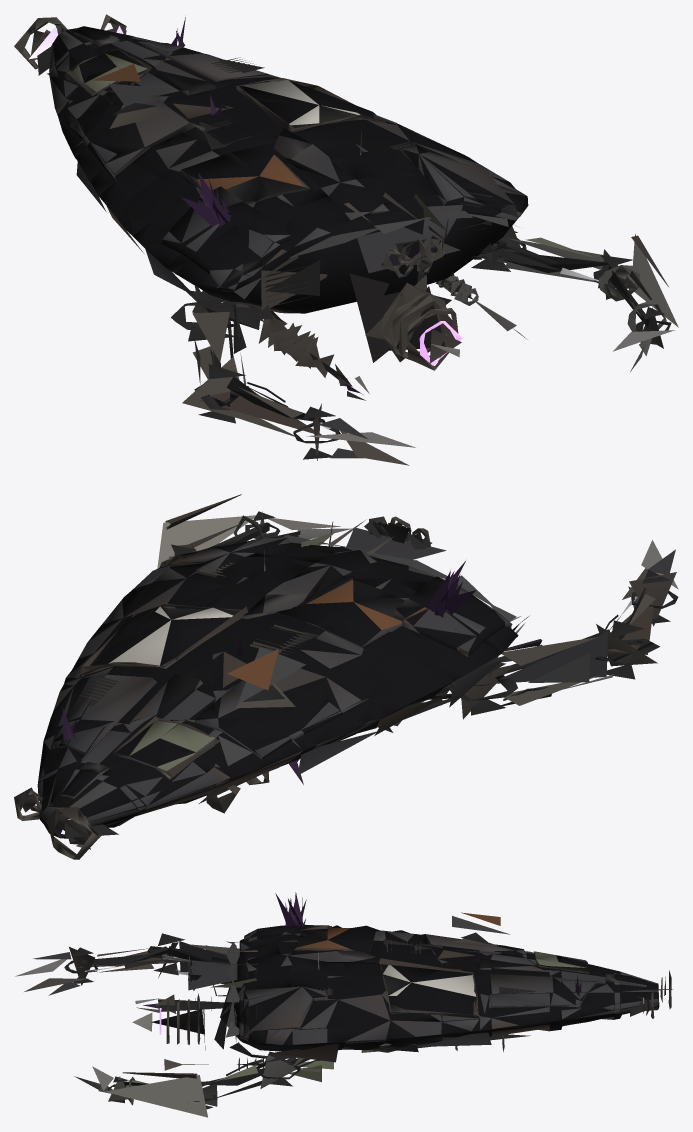
Rendered from Ferrox_Jaeger2Fern.glb.
3 renders of one model, top to bottom at view 1: azimuth 30°, elevation 25°; view 2: azimuth 150°, elevation 25°; view 3: azimuth 270°, elevation 25°, orthographic. The views are drawn at different scales.
Parts seen in each view (by area): view 1: Ferrox_Jaeger2Fern; view 2: Ferrox_Jaeger2Fern; view 3: Ferrox_Jaeger2Fern.
Boxes of the visible parts, <box> form: Ferrox_Jaeger2Fern: <box>14,14,678,465</box>; Ferrox_Jaeger2Fern: <box>14,494,678,859</box>; Ferrox_Jaeger2Fern: <box>15,892,672,1117</box>.
Size of the model in its own units: 12.9 by 4.6 by 22.72.
